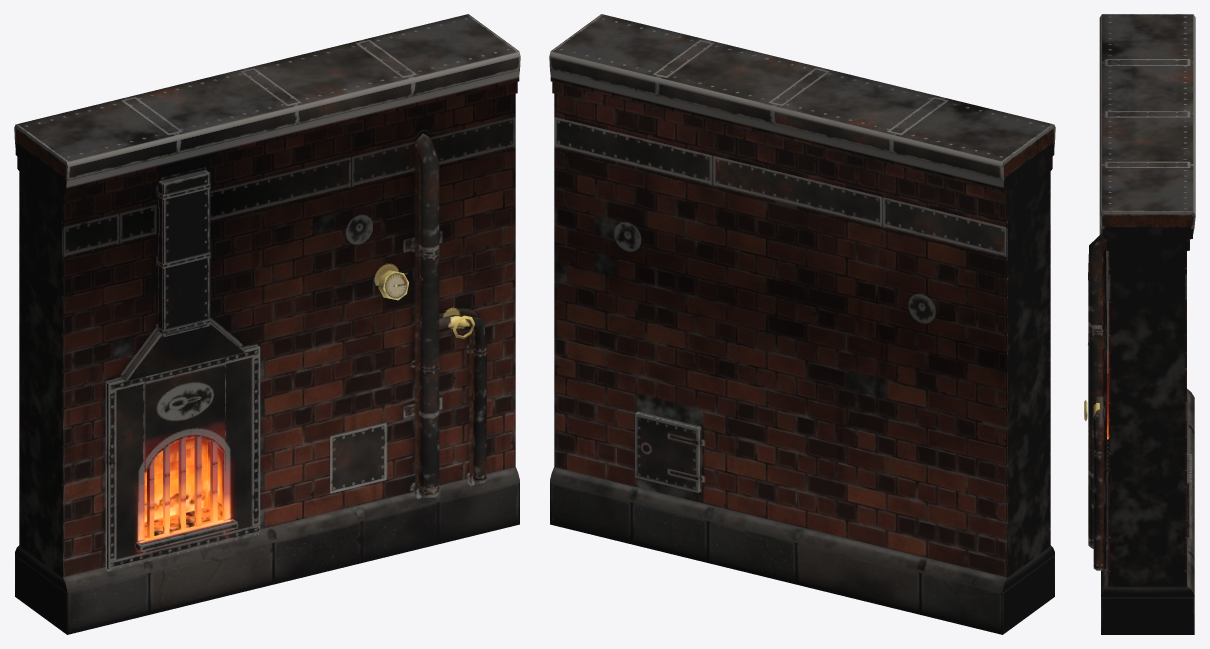
File: foundry_wall.glb
3 views of the same model, side by side, from view 1: azimuth 30°, elevation 25°; view 2: azimuth 150°, elevation 25°; view 3: azimuth 270°, elevation 25° (orthographic). The views are drawn at different scales.
Visible parts, largest first — view 1: foundry_wall; view 2: foundry_wall; view 3: foundry_wall.
Part boxes in pixels (box(x1,y1,x2,y2)): foundry_wall: box(14, 14, 520, 634); foundry_wall: box(549, 14, 1055, 634); foundry_wall: box(1084, 14, 1195, 634).
Size of the model in its own units: 4 by 3.99 by 0.9524.
1 material, 1 textured.
